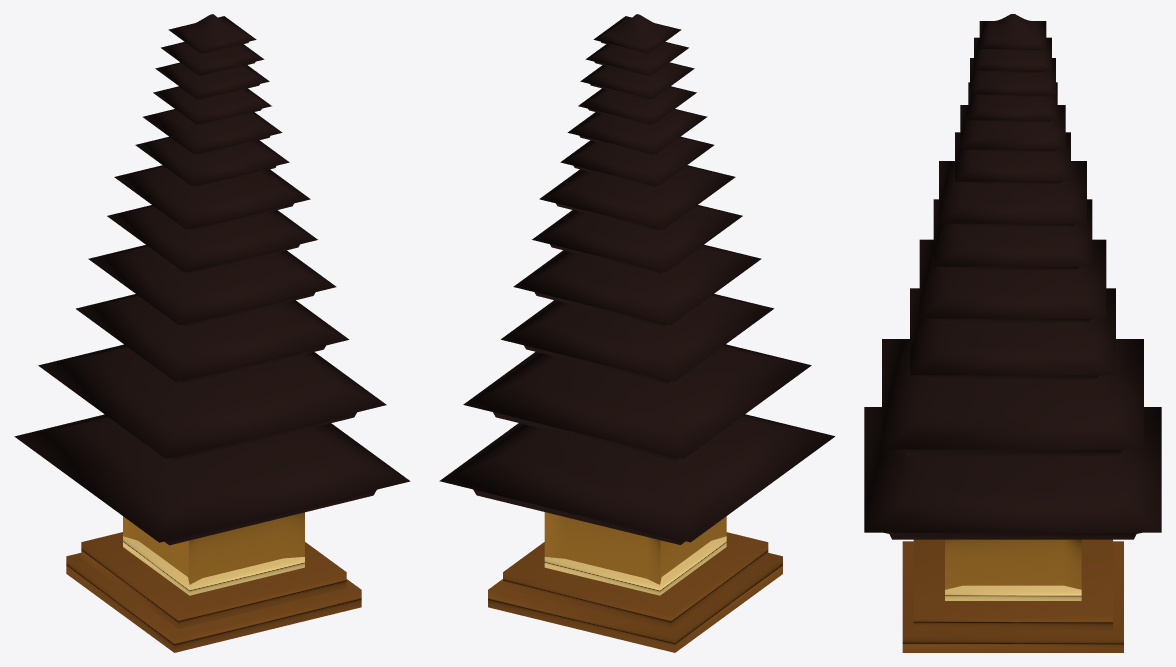
The model's file is gapuratengah.fbx.
3 views of the same model, side by side, from view 1: azimuth 30°, elevation 25°; view 2: azimuth 150°, elevation 25°; view 3: azimuth 270°, elevation 25° (orthographic). The views are drawn at different scales.
Visible parts, largest first — view 1: Cube.001; view 2: Cube.001; view 3: Cube.001.
Boxes of the visible parts, box(x1,y1,x2,y2) form: Cube.001: box(14, 14, 410, 652); Cube.001: box(439, 14, 834, 652); Cube.001: box(864, 14, 1161, 652).
Bounding box in the file's own units: 469 × 1028 × 469.
